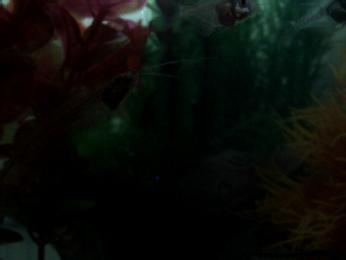X-ray fish: (170, 1, 261, 36), (281, 1, 346, 46)
glassfish: (6, 69, 143, 169)
